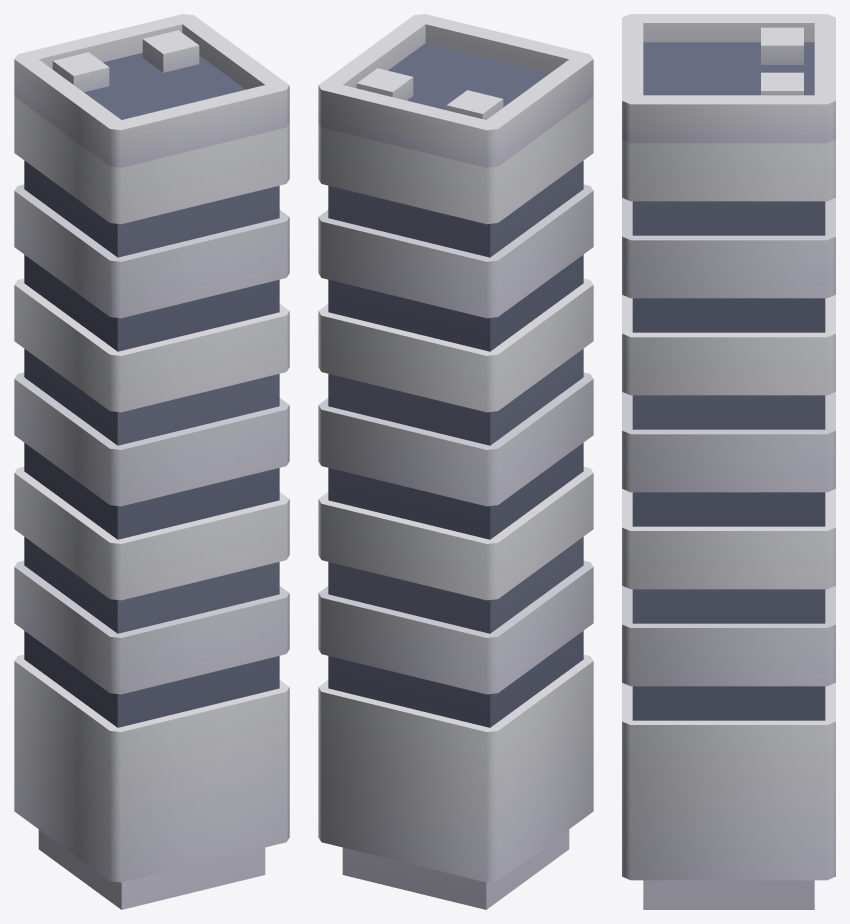
Rendered from low-detail-building-h.glb.
3 renders of one model, left to right at view 1: azimuth 30°, elevation 25°; view 2: azimuth 150°, elevation 25°; view 3: azimuth 270°, elevation 25°, orthographic. The views are drawn at different scales.
Visible parts, largest first — view 1: low-detail-building-h; view 2: low-detail-building-h; view 3: low-detail-building-h.
Boxes of the visible parts, <box> form: low-detail-building-h: <box>14,14,289,909</box>; low-detail-building-h: <box>318,14,593,909</box>; low-detail-building-h: <box>622,14,835,909</box>.
Size of the model in its own units: 0.4999 by 2.1 by 0.4999.
1 material, 1 textured.
